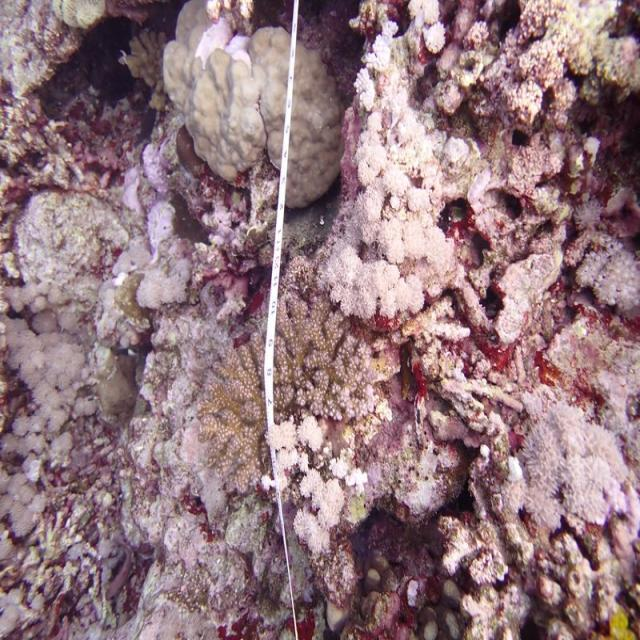Bleached Coral: (323, 0, 479, 343), (0, 196, 108, 640), (148, 2, 361, 224), (474, 385, 640, 559), (237, 398, 396, 542), (105, 200, 211, 323), (562, 204, 640, 346)
